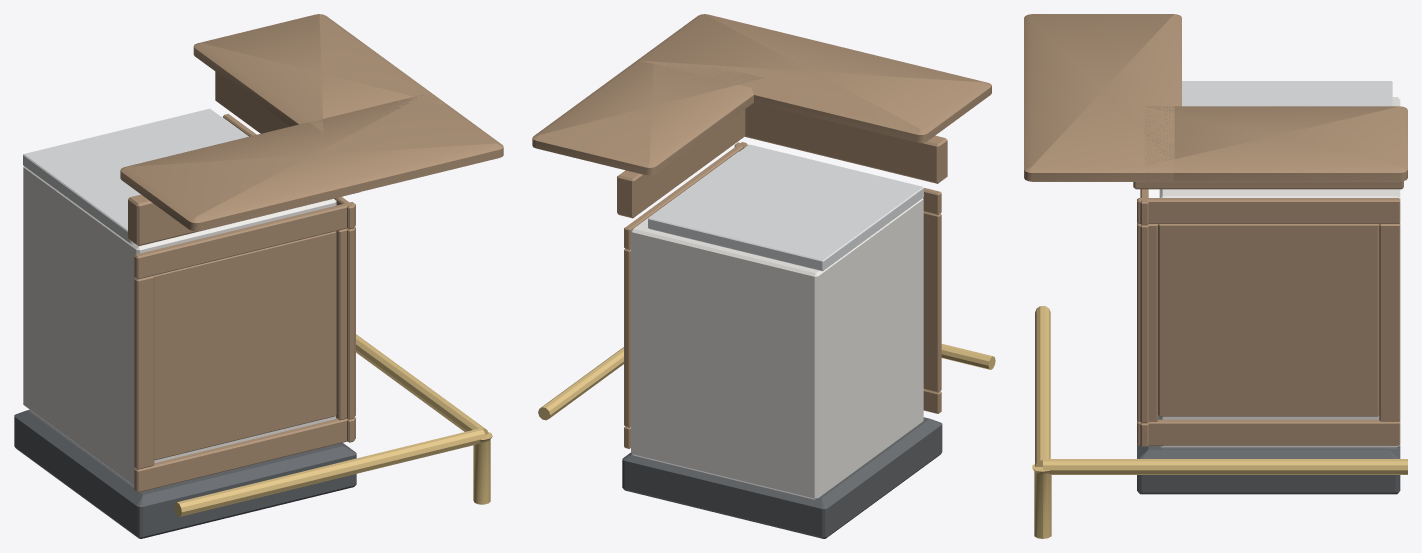
Rendered from restaurant-kitchen-and-dining-bar-counter-corner-000a2ba3__16518.glb.
3 renders of one model, left to right at view 1: azimuth 30°, elevation 25°; view 2: azimuth 150°, elevation 25°; view 3: azimuth 270°, elevation 25°, orthographic. The views are drawn at different scales.
Parts seen in each view (by area): view 1: bar-counter-corner; view 2: bar-counter-corner; view 3: bar-counter-corner.
Boxes of the visible parts, x1,y1,x2,y2 form: bar-counter-corner: [14, 14, 503, 538]; bar-counter-corner: [532, 14, 995, 538]; bar-counter-corner: [1024, 14, 1407, 538].
Bounding box in the file's own units: 1.02 × 1.1 × 1.02.
